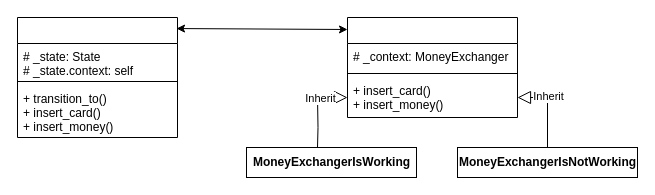
Some shapes in this 655 by 195 pixel diagram are drawn without their labels. The shapes that lost their labels are listed below. From the top down, each one's box as (x1, y1, x2, y2) in pixels, then its label:
(16, 16, 178, 138): MoneyExchanger
(346, 16, 518, 118): State
